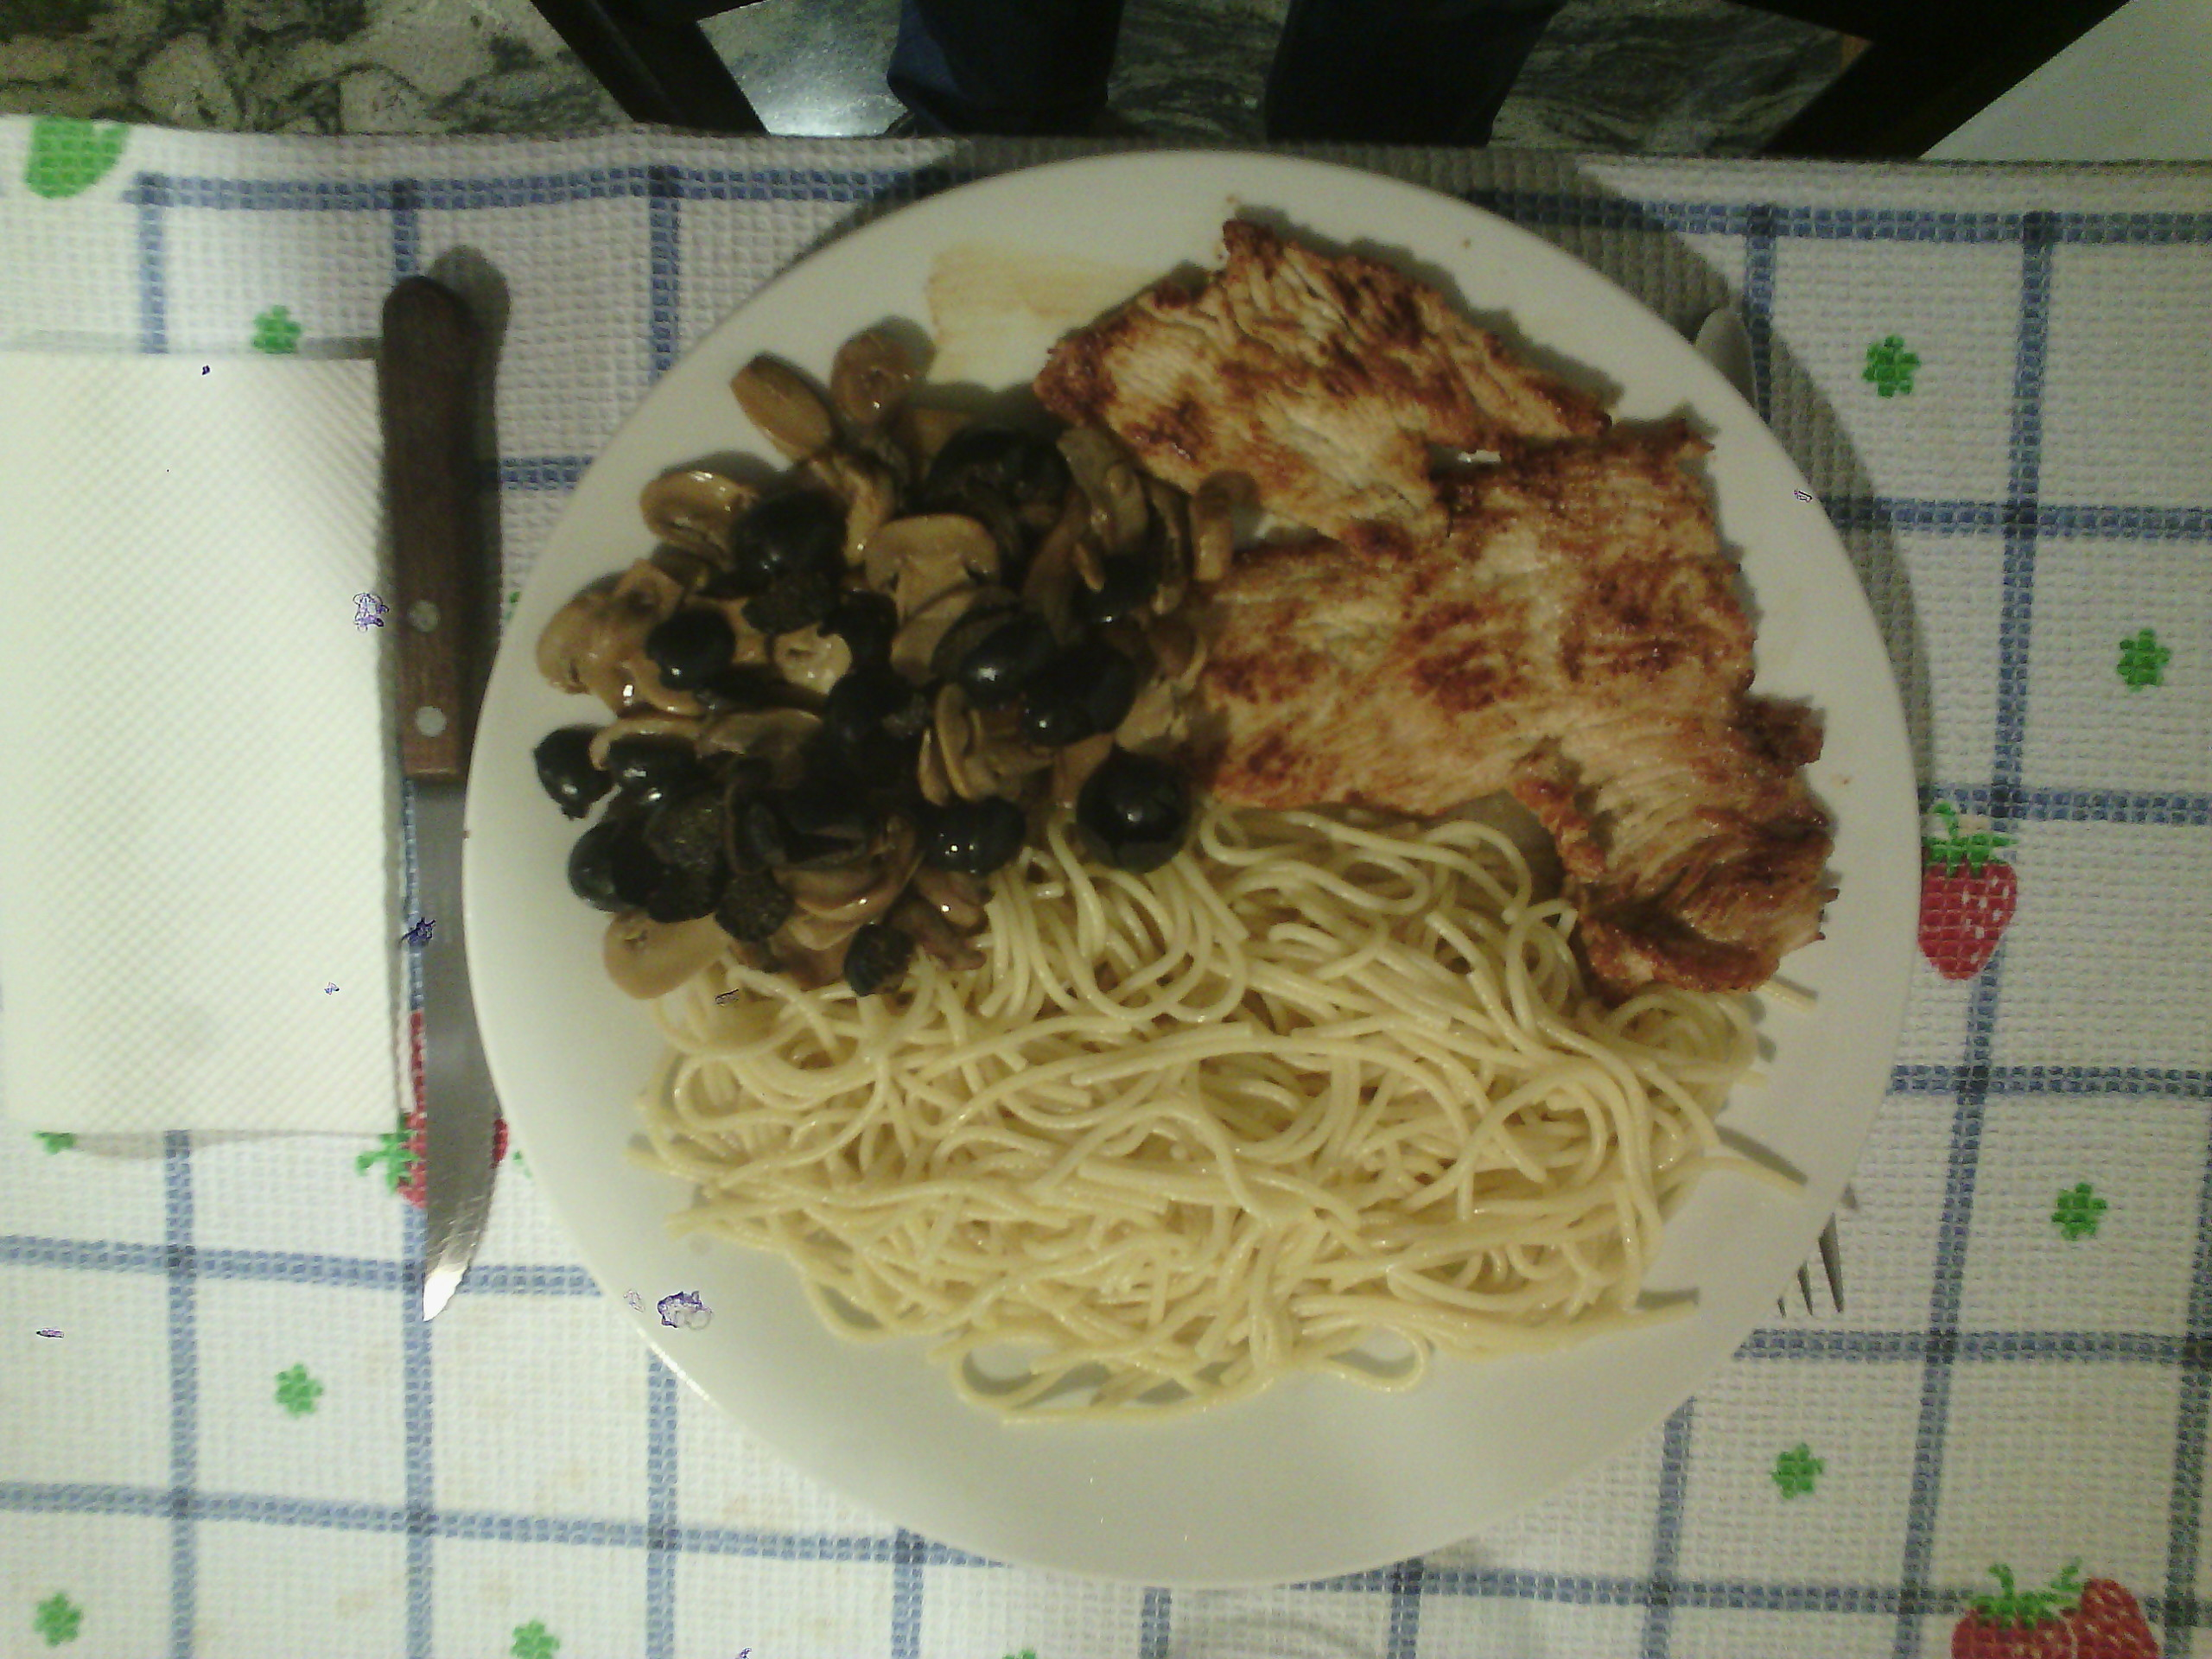81-100: (462, 153, 1921, 1595)
